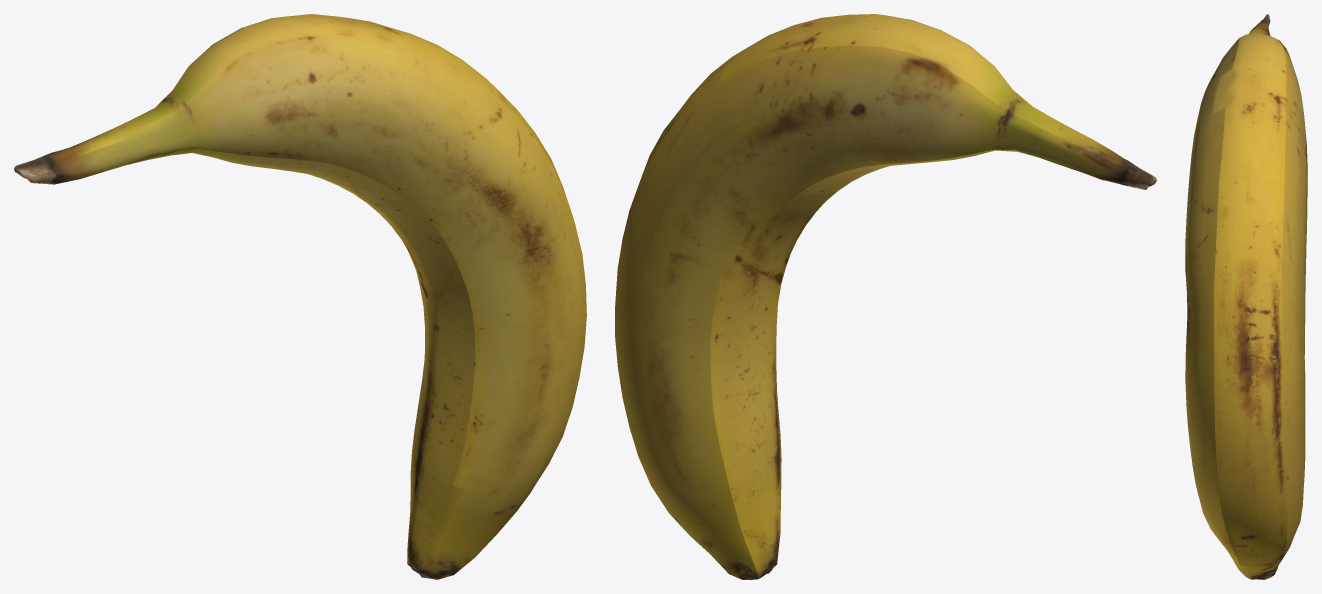
The model's file is banana.gltf.
3 renders of one model, left to right at view 1: azimuth 30°, elevation 25°; view 2: azimuth 150°, elevation 25°; view 3: azimuth 270°, elevation 25°, orthographic. The views are drawn at different scales.
Visible parts, largest first — view 1: geo1; view 2: geo1; view 3: geo1.
Boxes of the visible parts, left/top/right/bottom form: geo1: left=14, top=14, right=586, bottom=579; geo1: left=615, top=14, right=1156, bottom=579; geo1: left=1185, top=14, right=1307, bottom=579.
Bounding box in the file's own units: 0.1513 × 0.1565 × 0.037.
